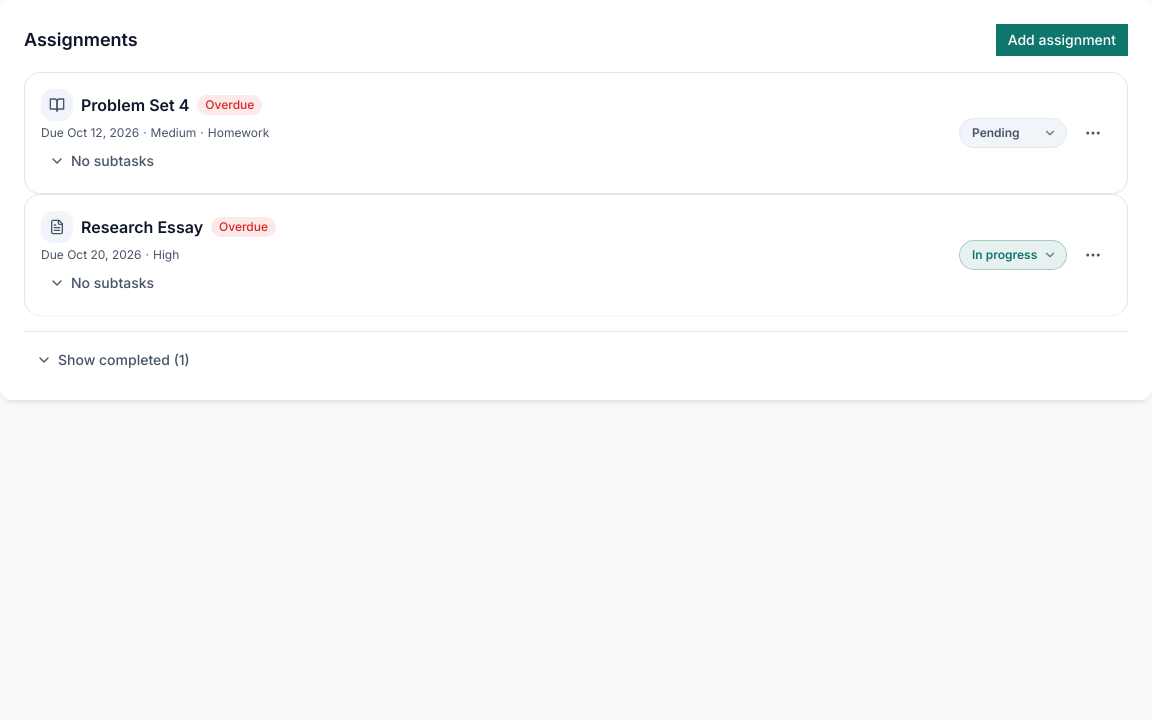
Test case: AssignmentsSection (AC 4, D112-6) › opens DeleteAssignmentDialog from the overflow menu and re-arms status
Click the button named "Actions for Problem Set 4": {"x": 1093, "y": 133} [1075,115,1111,151]
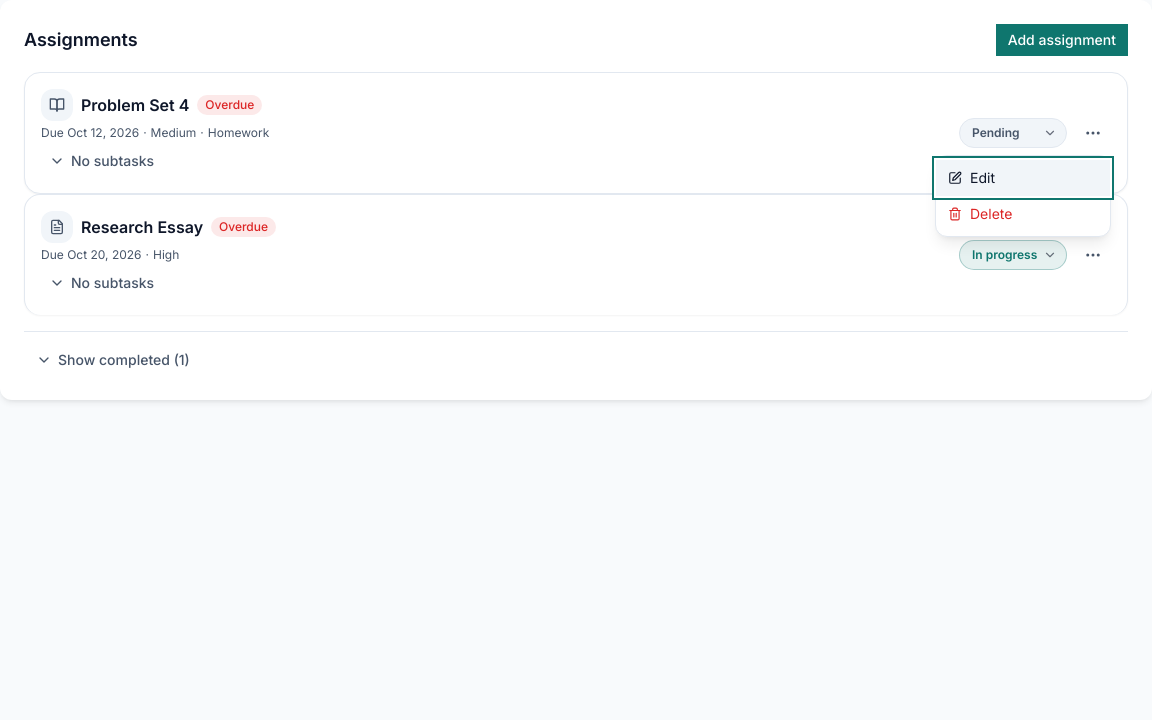
Click the menu item with aria-label "Delete Problem Set 4": {"x": 1023, "y": 214} [936,196,1110,232]
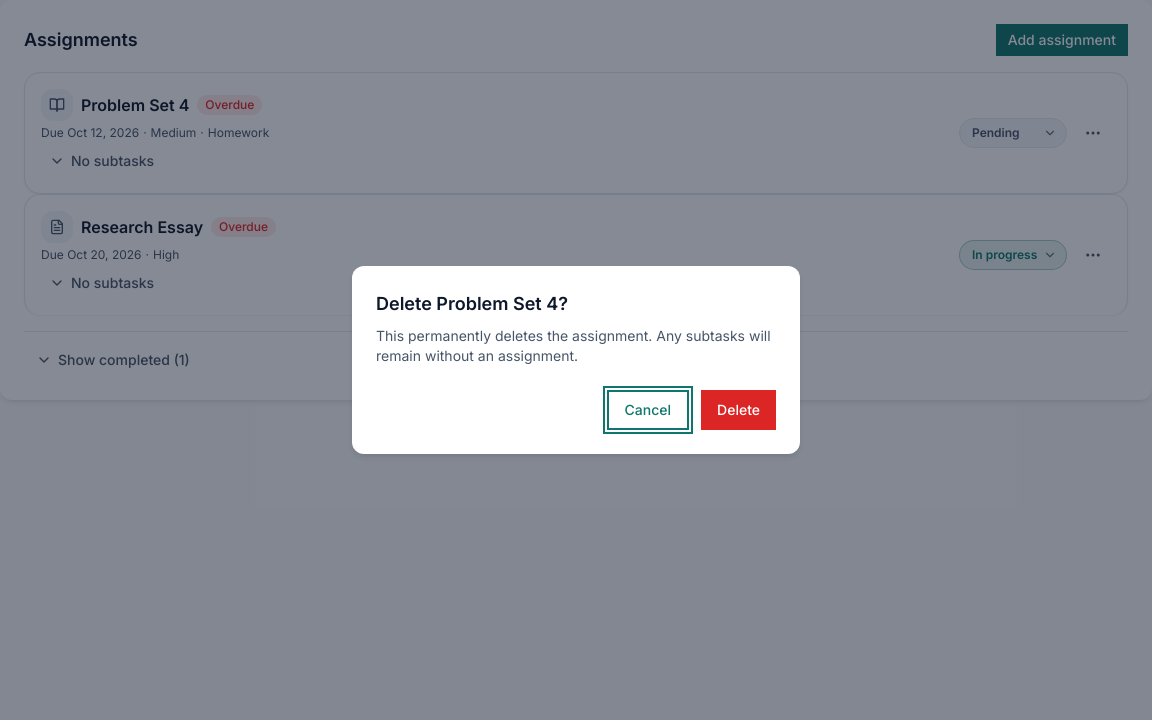
Check: the heading "Delete Problem Set 4?" is shown, box [376,293,568,314]
